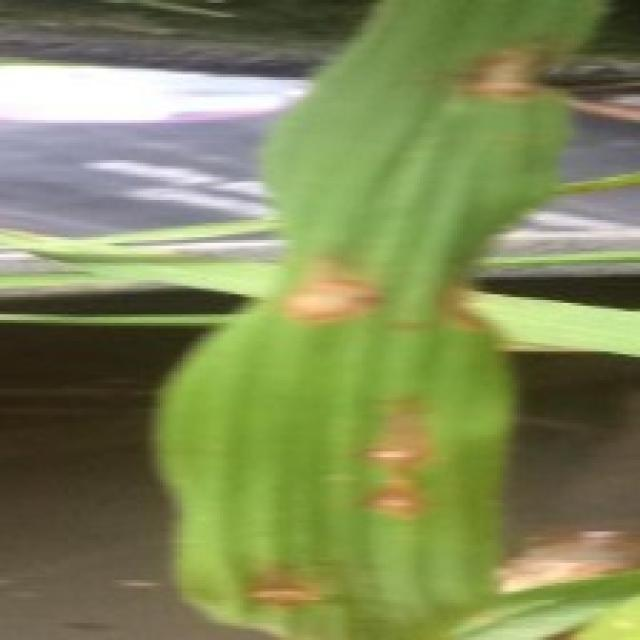Unhealthy: (349, 391, 434, 522), (412, 46, 550, 102), (382, 276, 497, 339), (283, 255, 383, 326), (241, 557, 330, 606)
